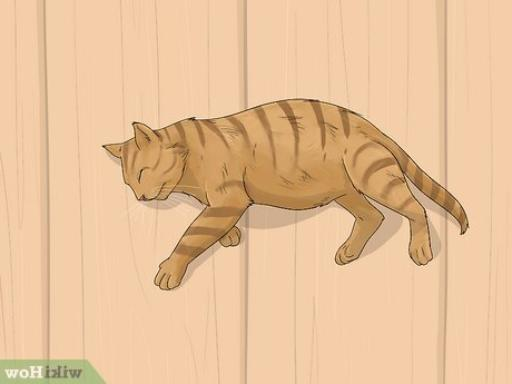cat_sleeping: (104, 99, 469, 289)
